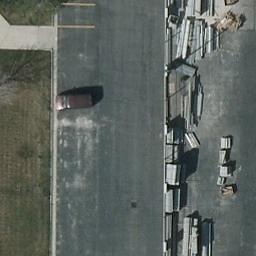car: (53, 94, 94, 109)
